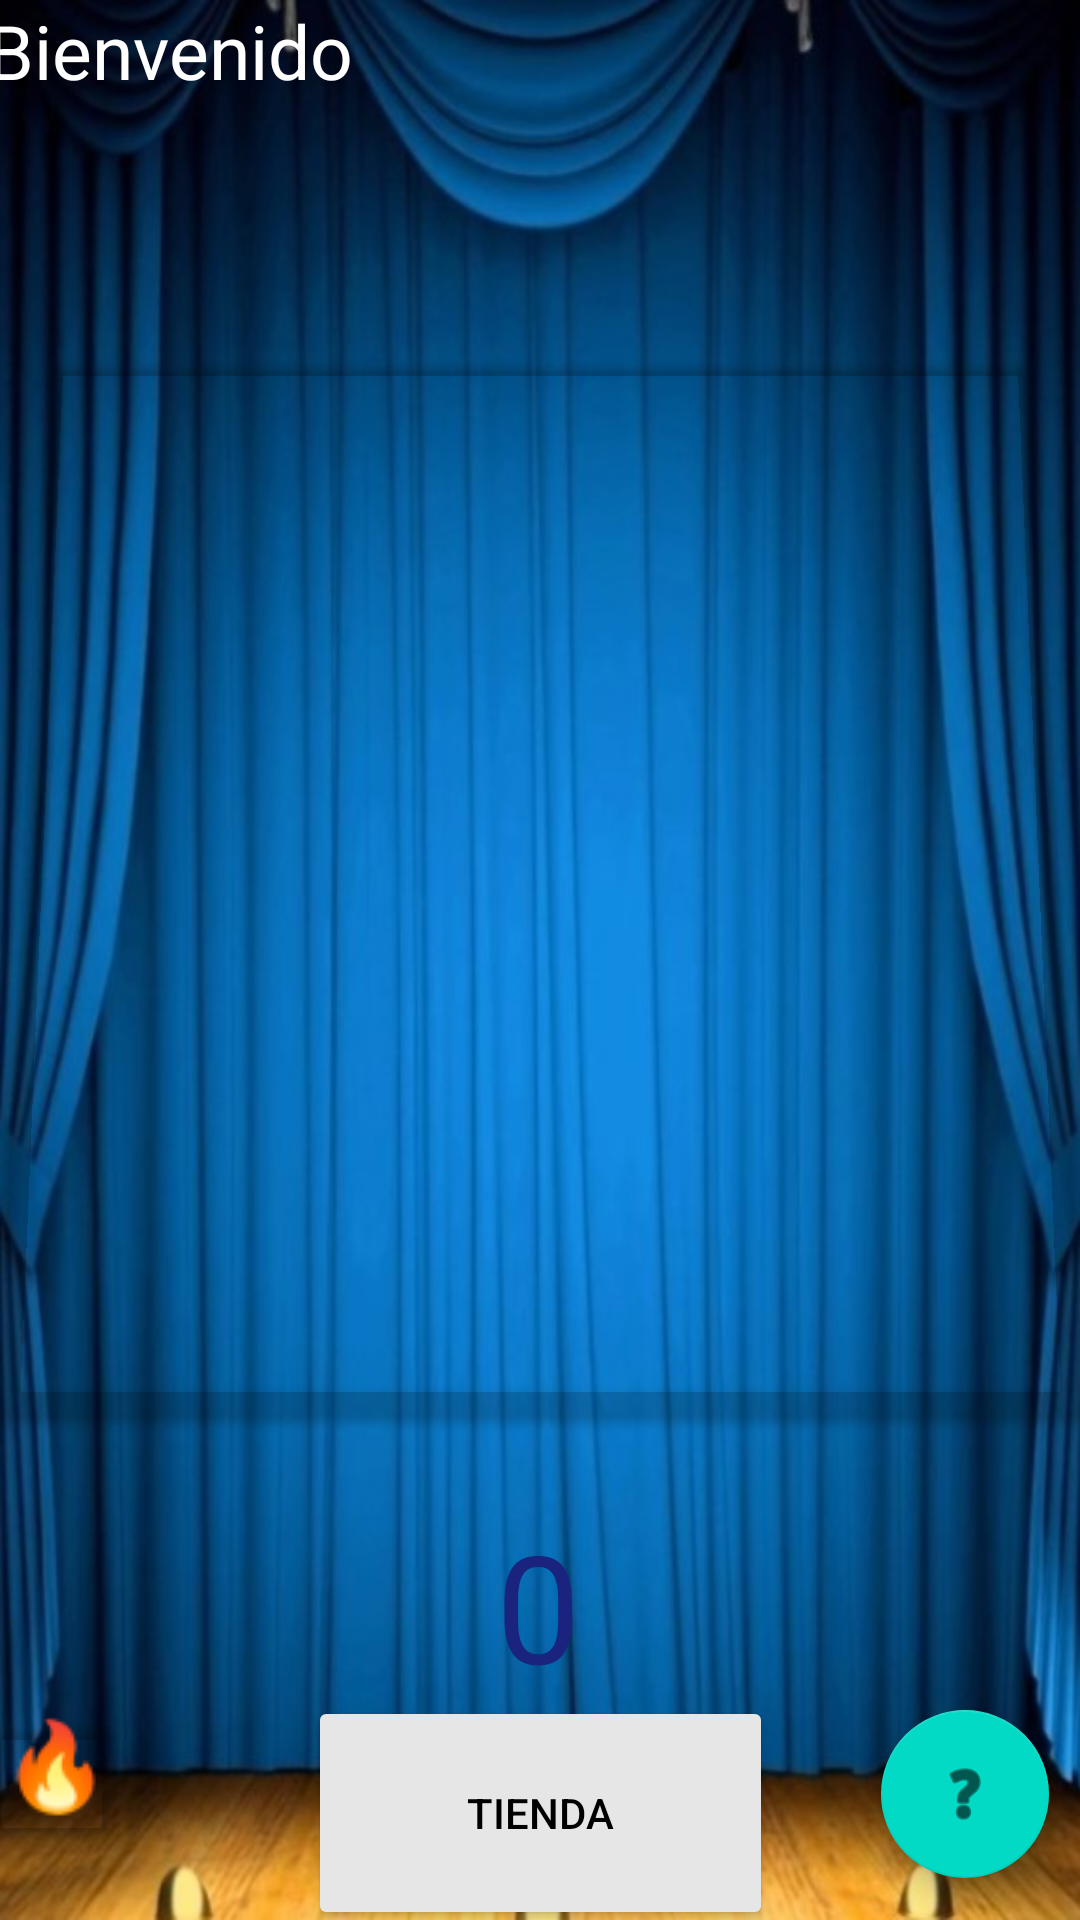

Icons on this 1080x1920 Android screen, each with the point to tap as [x,y]:
help: [965,1794]
